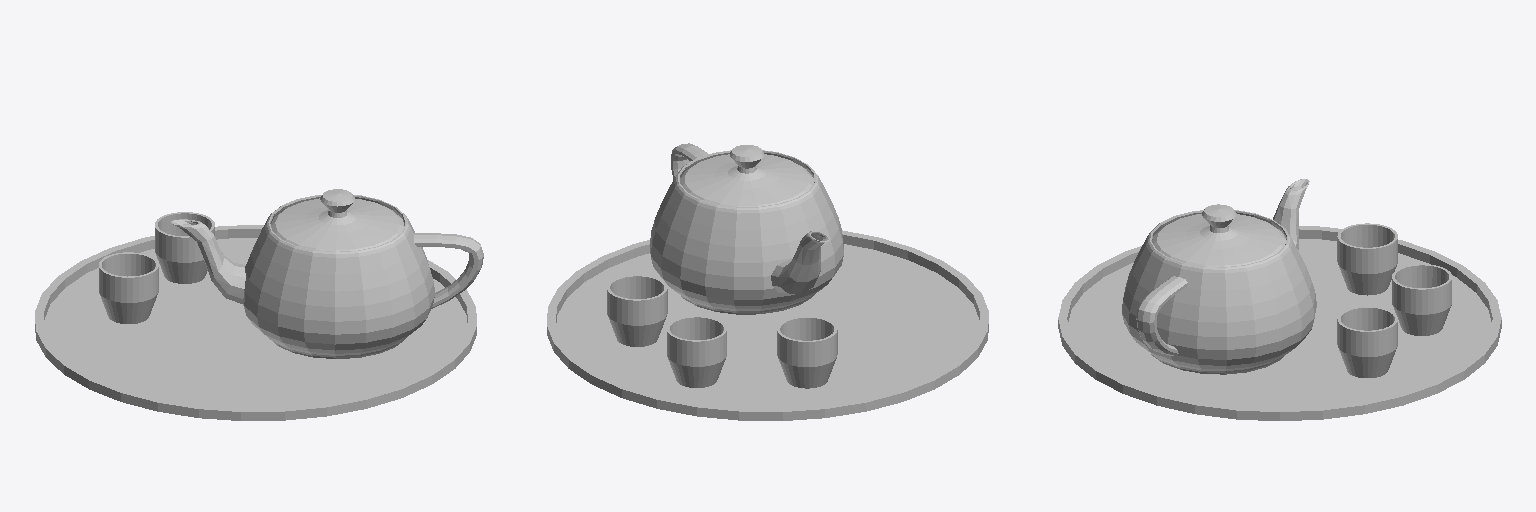
The picture shows the model from 3 angles: view 1: azimuth 30°, elevation 25°; view 2: azimuth 150°, elevation 25°; view 3: azimuth 270°, elevation 25°; orthographic projection.
Parts seen in each view (by area): view 1: Circle, Teapot, Cylinder.002, Cylinder; view 2: Circle, Teapot, Cylinder.001, Cylinder.002, Cylinder; view 3: Circle, Teapot, Cylinder.001, Cylinder.002, Cylinder.
Boxes of the visible parts, box(x1,y1,x2,y2) form: Circle: box(35, 225, 476, 420); Teapot: box(171, 189, 483, 358); Cylinder.002: box(99, 252, 158, 323); Cylinder: box(155, 212, 214, 283); Circle: box(547, 230, 988, 420); Teapot: box(650, 143, 843, 314); Cylinder.001: box(607, 275, 667, 346); Cylinder.002: box(777, 316, 837, 388); Cylinder: box(667, 316, 726, 387); Circle: box(1058, 226, 1501, 420); Teapot: box(1122, 179, 1316, 374); Cylinder.001: box(1337, 306, 1397, 377); Cylinder.002: box(1337, 223, 1397, 295); Cylinder: box(1392, 264, 1451, 335).
Bounding box in the file's own units: 9.09 × 3.24 × 9.09.